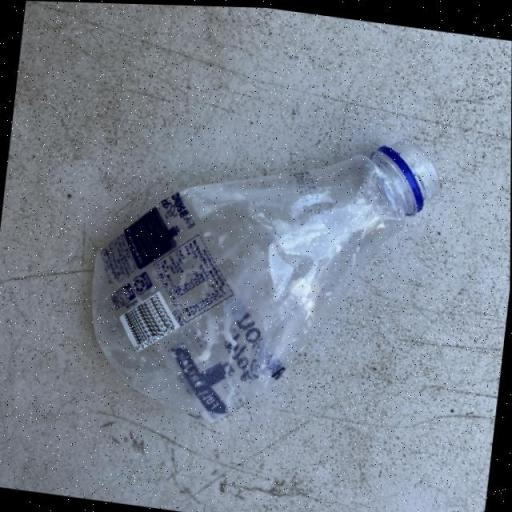plastic: (76, 95, 444, 447)
